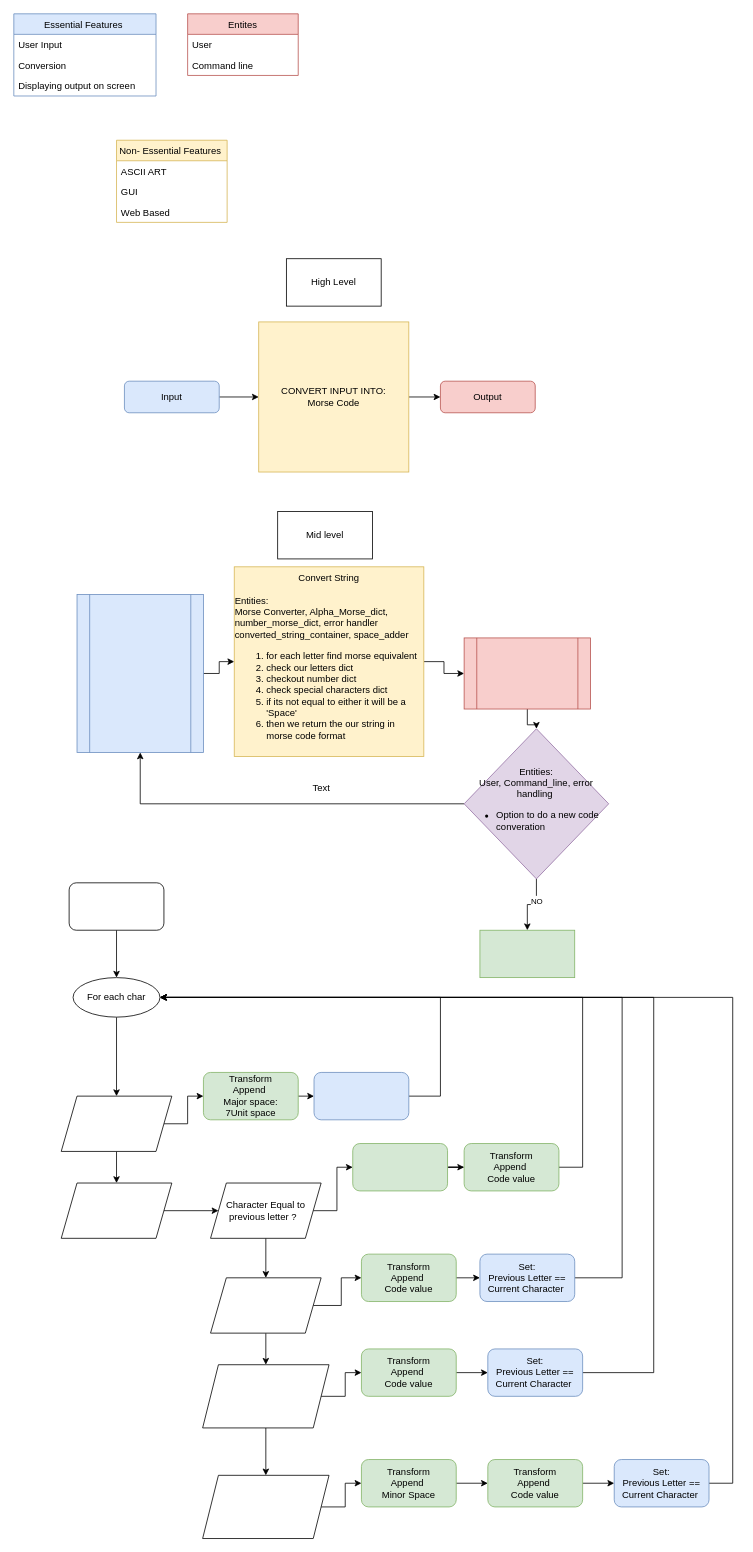
This 753x1552 diagram has some shape labels left out. The shapes that lost their labels are listed below. From the top down, each one's centre as x and y in pixels, then its label:
At (x=139, y=673): "Entities: User Method: Get User input Check if valid".
At (x=527, y=673): "Entites: Command Line Output final string: Morse Code string".
At (x=116, y=906): "User input word".
At (x=527, y=953): "End".
At (x=361, y=1096): "Set: Previous Letter == Major space".
At (x=116, y=1123): "Current char: Eqaul to word space".
At (x=400, y=1167): "Transform Append Twin space".
At (x=116, y=1210): "Character in our Dictionary ?".
At (x=265, y=1305): "is character.index 0 ?".
At (x=265, y=1396): "Previous Letter == Major Space ?".
At (x=265, y=1507): "Else:".
